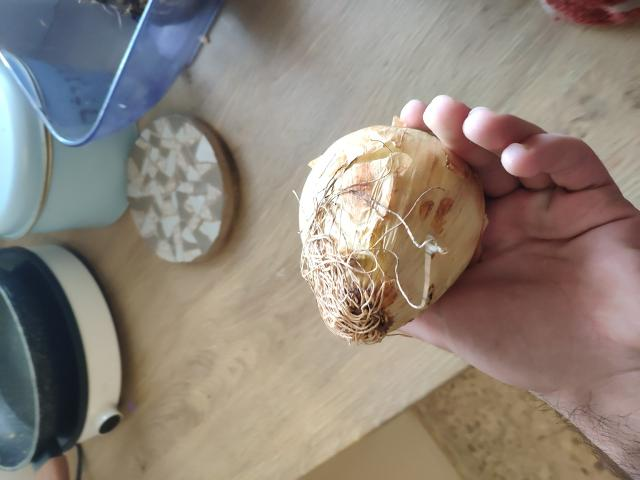onion: (276, 119, 484, 328)
